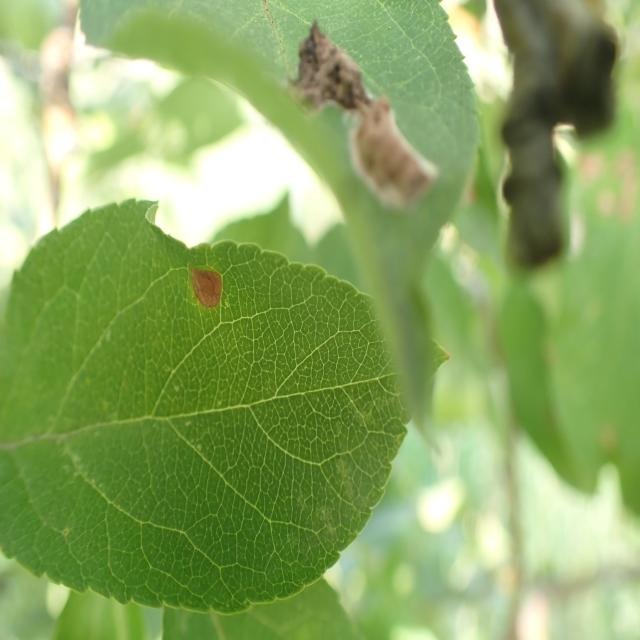Black Rot: (188, 247, 229, 323)
